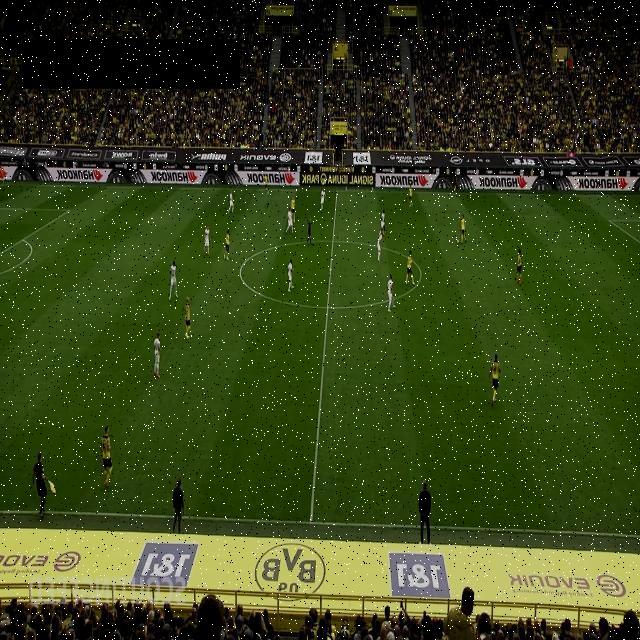Ball: (456, 238, 459, 246)
Referee: (32, 451, 58, 522), (307, 218, 313, 246), (453, 170, 457, 192)
TEAM 1: (100, 424, 112, 488), (488, 354, 502, 406), (184, 296, 192, 340), (405, 250, 415, 285), (515, 248, 522, 284), (460, 213, 467, 243), (223, 230, 230, 260), (290, 194, 296, 223), (407, 185, 413, 208), (264, 173, 270, 194)
TEAM 2: (153, 332, 162, 378), (168, 260, 178, 300), (387, 274, 395, 312), (203, 224, 211, 256), (286, 207, 294, 235), (288, 258, 294, 292), (377, 230, 383, 262), (319, 188, 326, 212), (380, 208, 386, 232), (228, 190, 234, 214)
